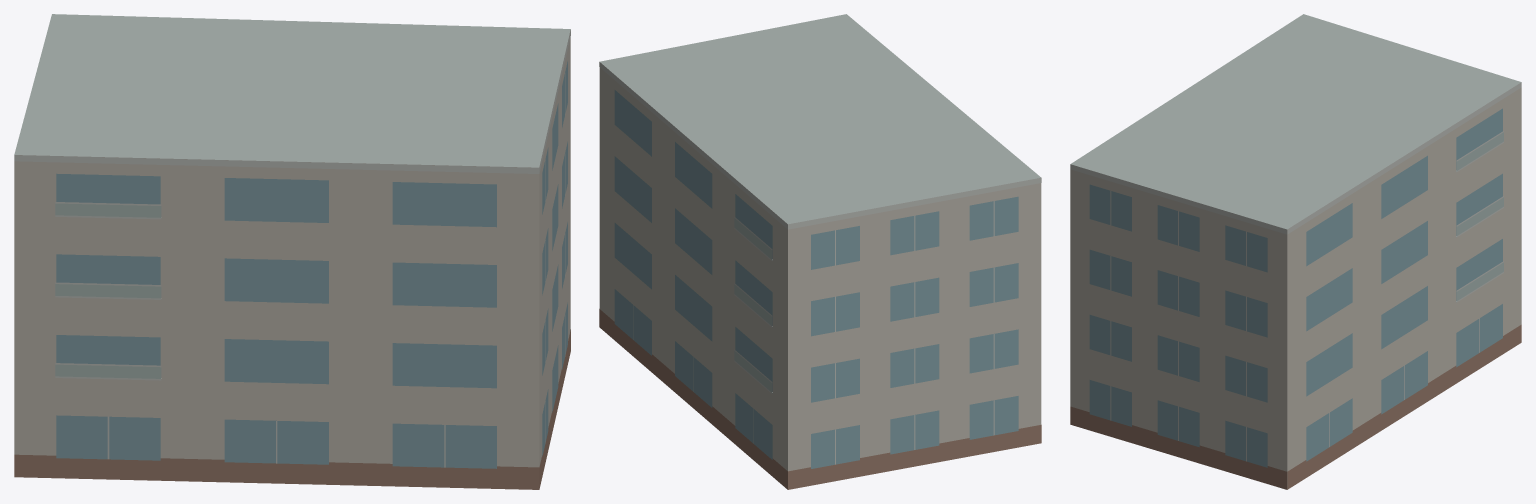
Rendered from survey-upis-32955457.glb.
3 renders of one model, left to right at view 1: azimuth 30°, elevation 25°; view 2: azimuth 150°, elevation 25°; view 3: azimuth 270°, elevation 25°, orthographic. The views are drawn at different scales.
Parts seen in each view (by area): view 1: survey-upis-32955457.tmp; view 2: survey-upis-32955457.tmp; view 3: survey-upis-32955457.tmp.
Boxes of the visible parts, x1=… form: survey-upis-32955457.tmp: x1=14, y1=14, x2=570, y2=489; survey-upis-32955457.tmp: x1=599, y1=14, x2=1041, y2=489; survey-upis-32955457.tmp: x1=1070, y1=14, x2=1521, y2=489.
Bounding box in the file's own units: 21.66 × 12.2 × 19.17.
